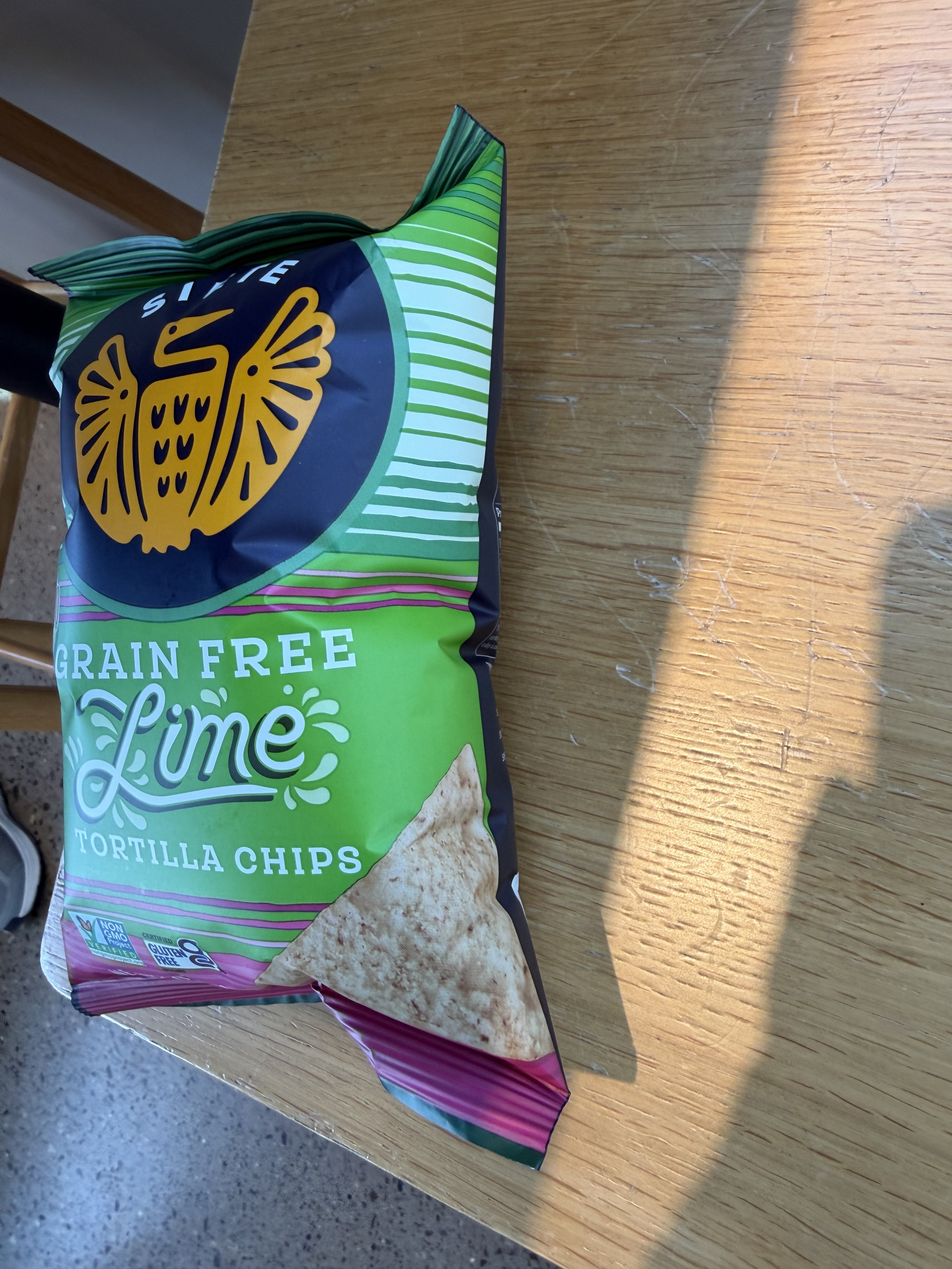lime: (15, 190, 577, 1131)
